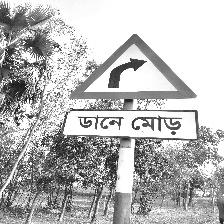Right-turn: (66, 34, 200, 140)
